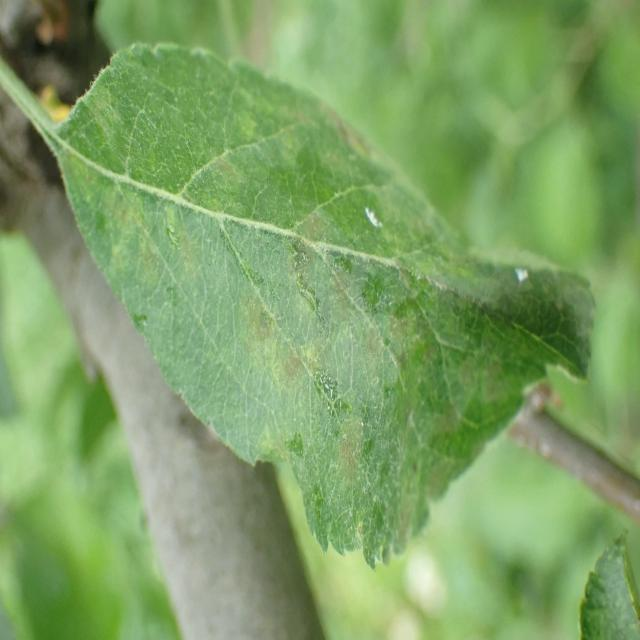scab: (68, 61, 580, 543)
